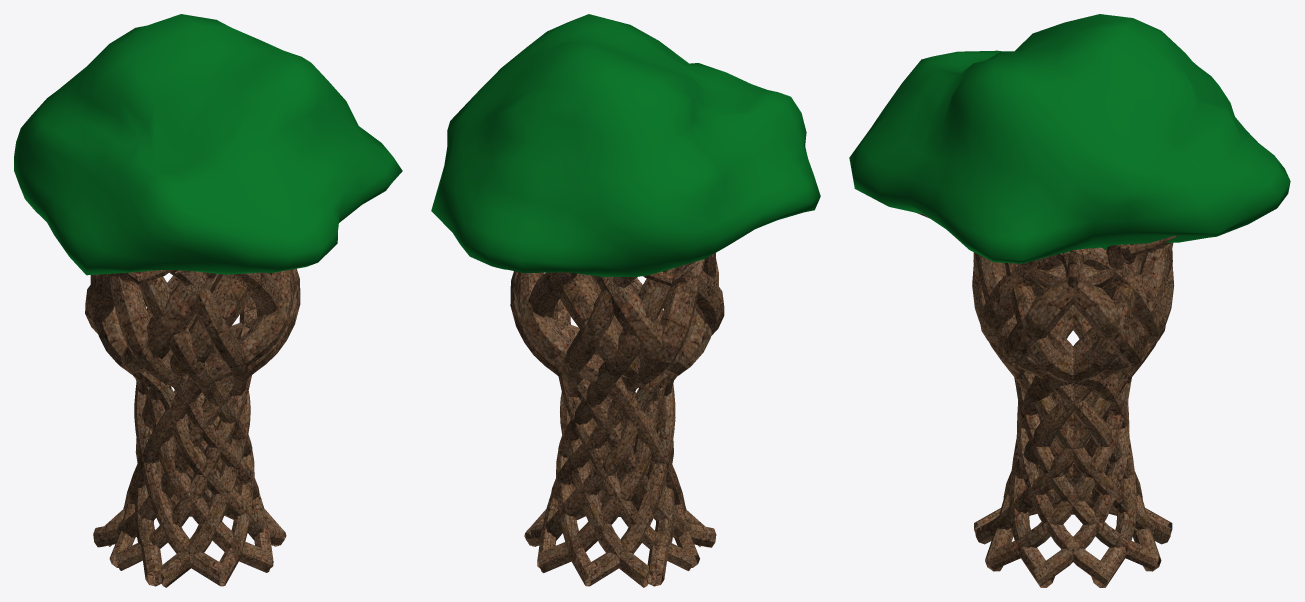
File: End4_House1.fbx
3 views of the same model, side by side, from view 1: azimuth 30°, elevation 25°; view 2: azimuth 150°, elevation 25°; view 3: azimuth 270°, elevation 25° (orthographic). The views are drawn at different scales.
Parts seen in each view (by area): view 1: Branches; view 2: Branches; view 3: Branches.
Part boxes in pixels (left/top/right/bottom): Branches: left=14, top=14, right=402, bottom=587; Branches: left=431, top=14, right=820, bottom=587; Branches: left=849, top=14, right=1290, bottom=587.
Bounding box in the file's own units: 2038 × 3006 × 2256.
2 materials, 1 textured.
